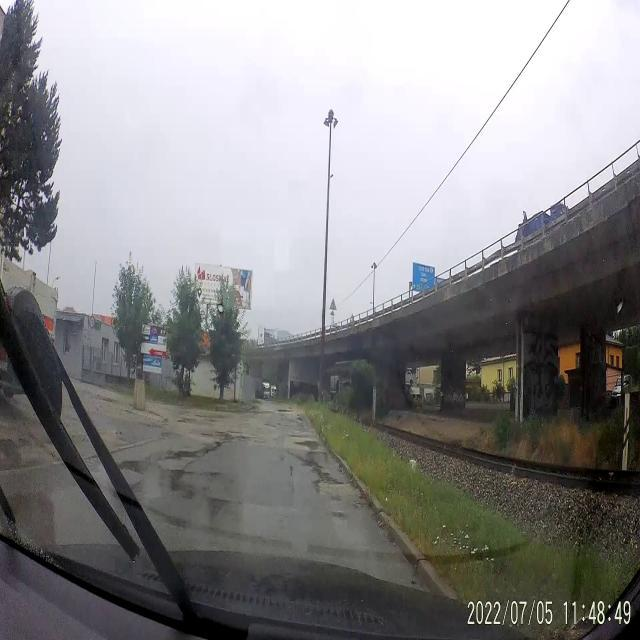Pothole: (330, 498, 353, 524)
